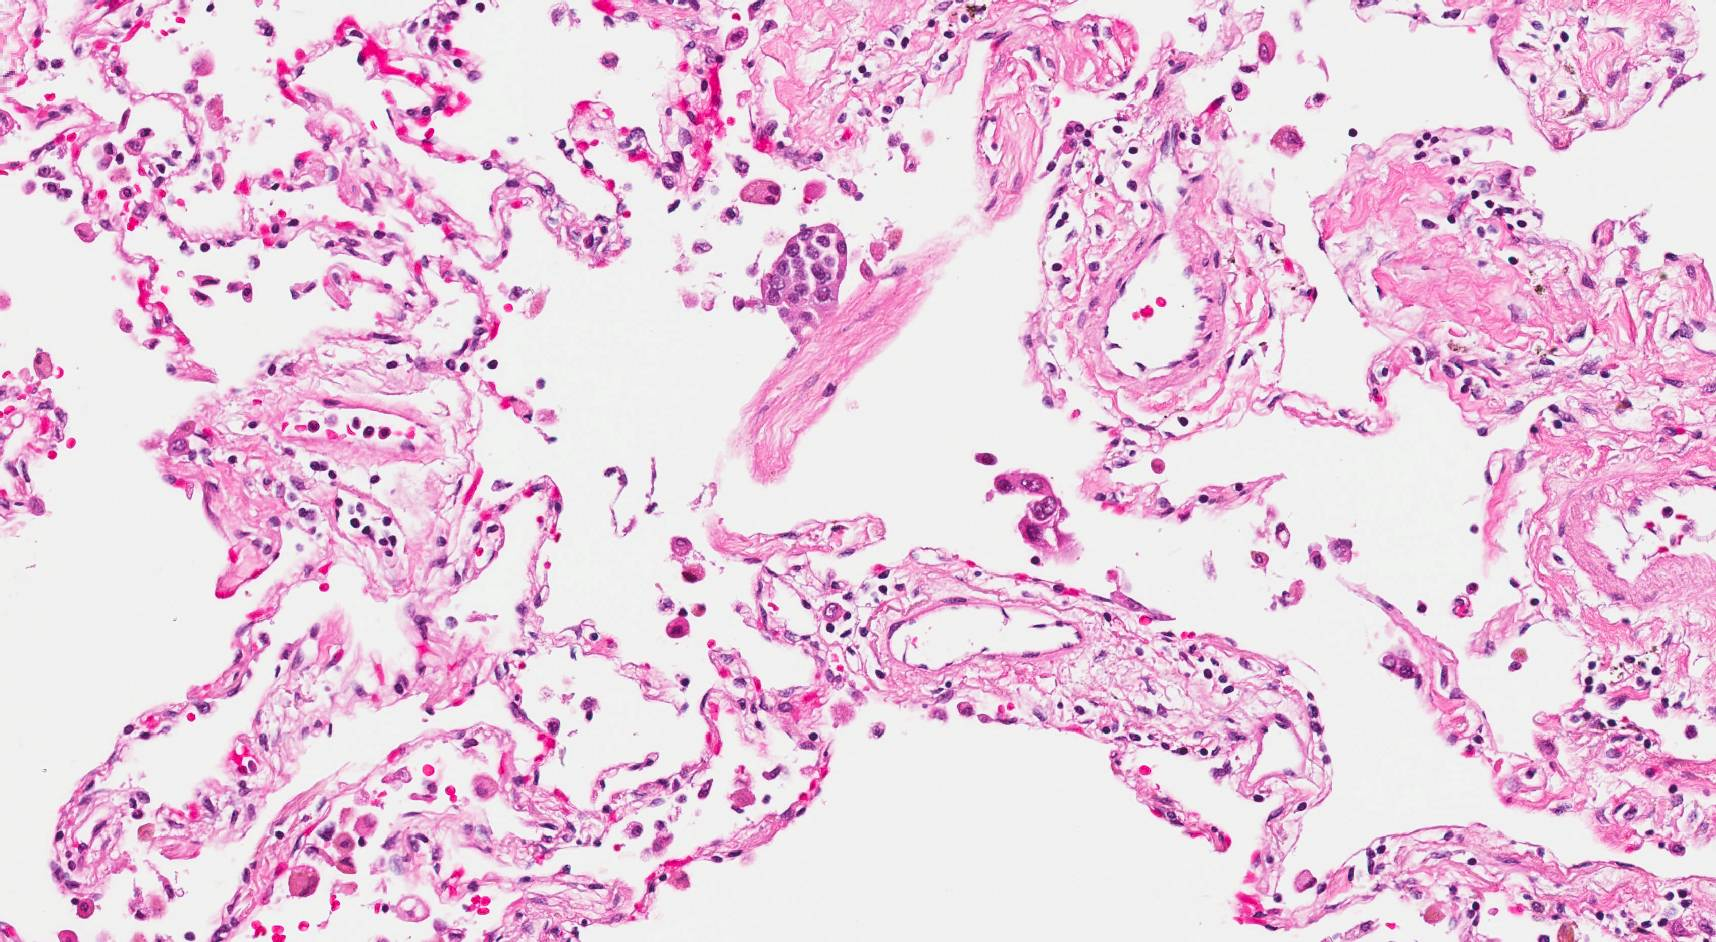stas: (993, 470, 1085, 561)
